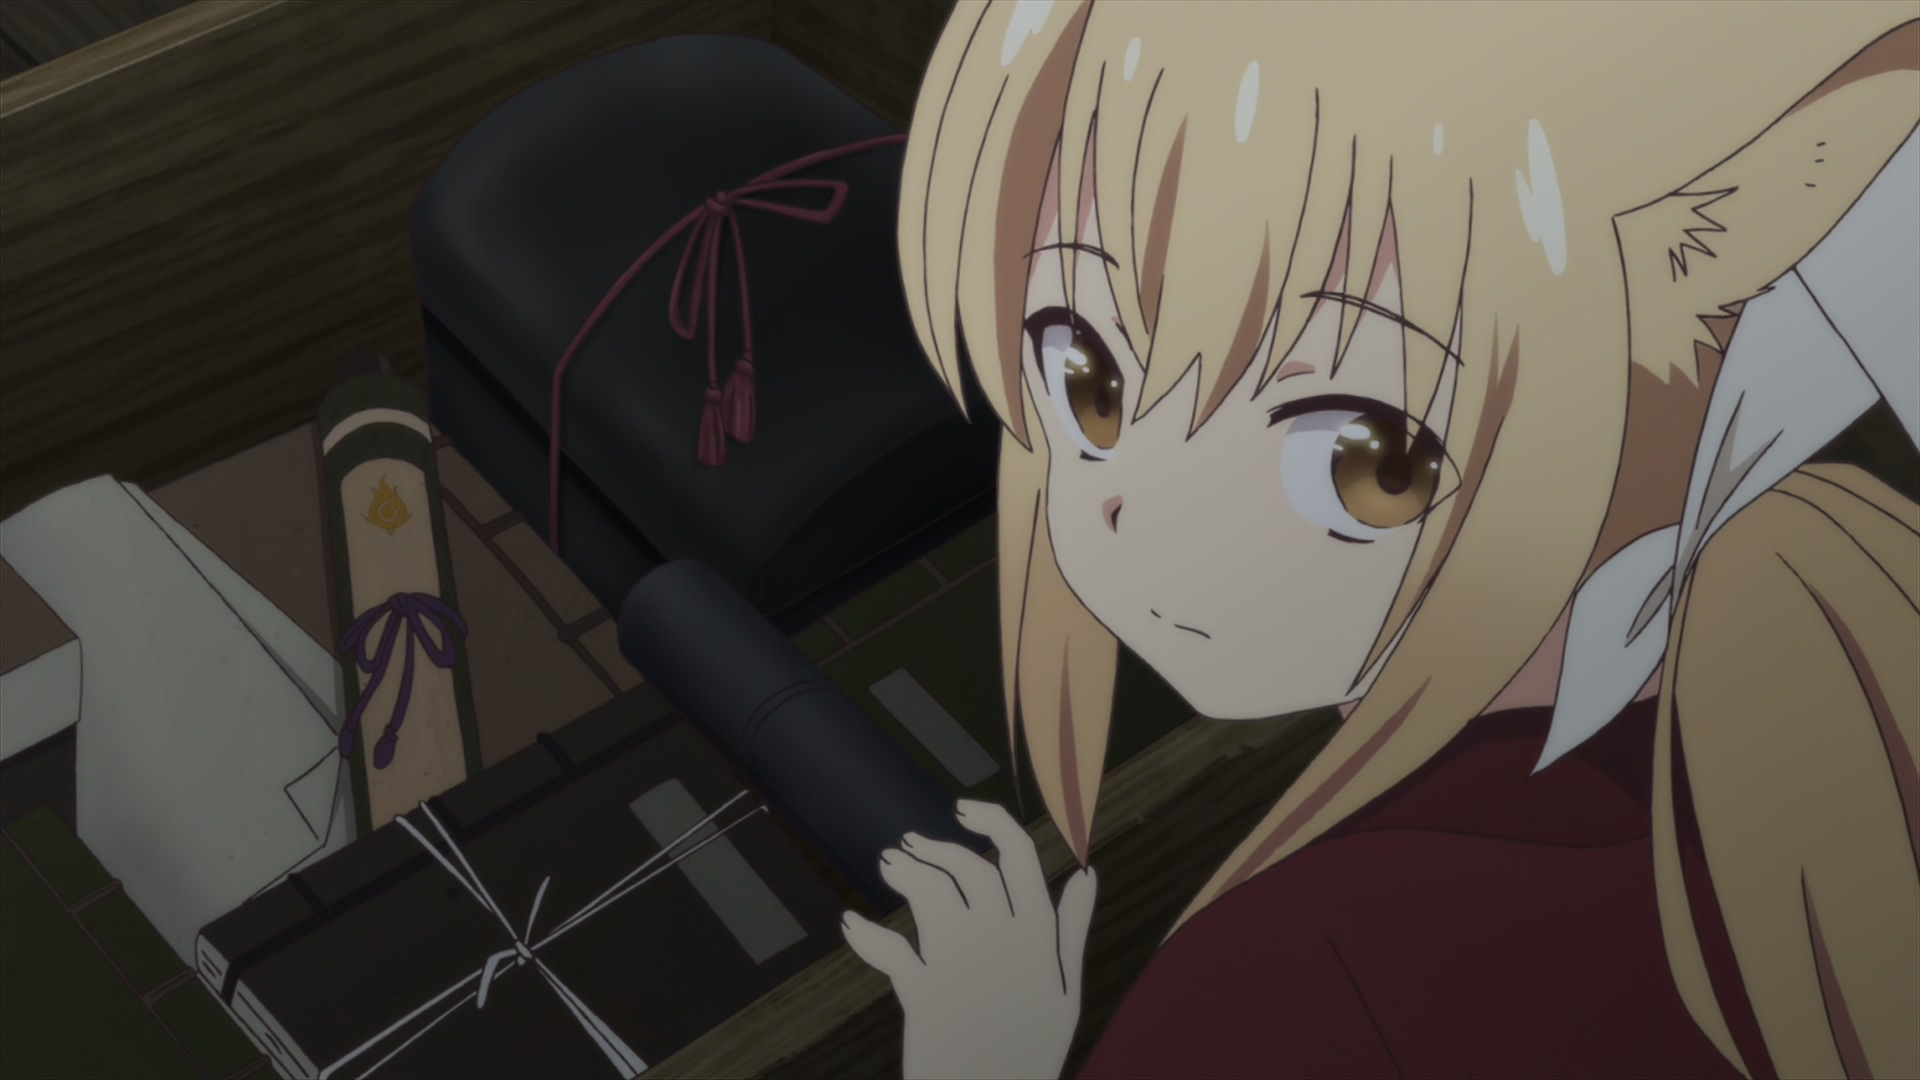柚: (837, 1, 1920, 1080)
